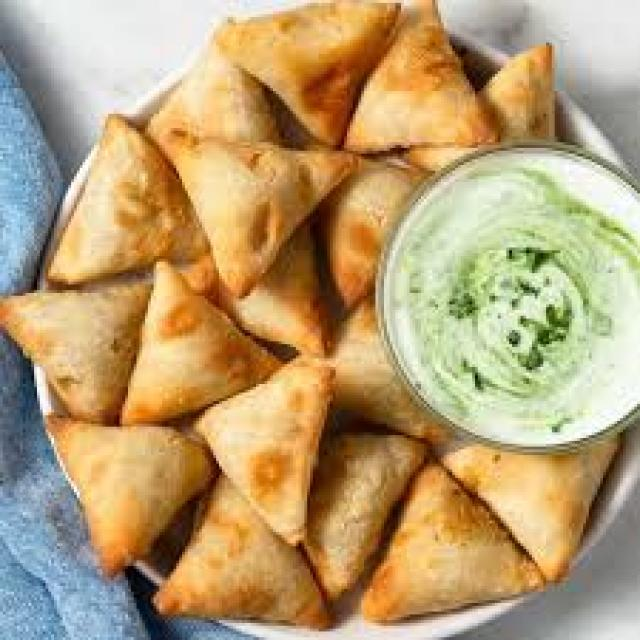SAMOSA: (159, 131, 358, 296), (364, 461, 540, 620), (219, 0, 398, 145), (48, 114, 202, 282), (46, 418, 213, 572), (196, 358, 333, 540), (154, 475, 327, 617), (122, 265, 279, 421), (444, 441, 617, 580), (347, 0, 495, 148), (0, 282, 148, 418), (304, 435, 421, 597), (330, 299, 447, 438), (321, 162, 427, 307), (228, 225, 330, 353), (484, 43, 552, 139)
